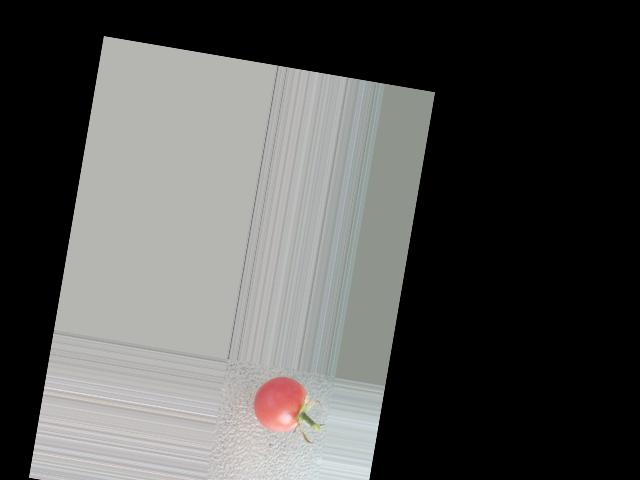tomato: (248, 373, 308, 437)
